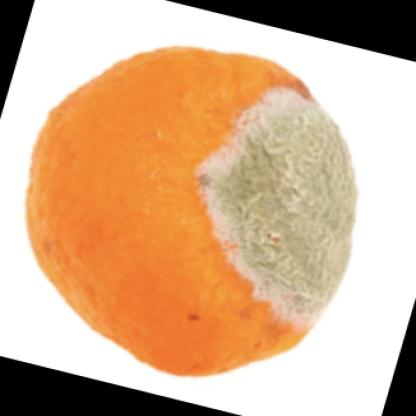rotten: (27, 46, 357, 378)
